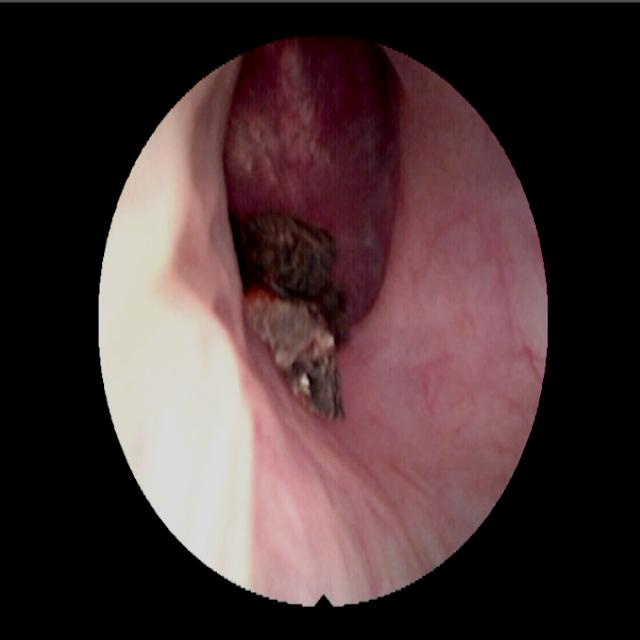stone: (237, 216, 349, 422)
tissue: (118, 50, 539, 599)
